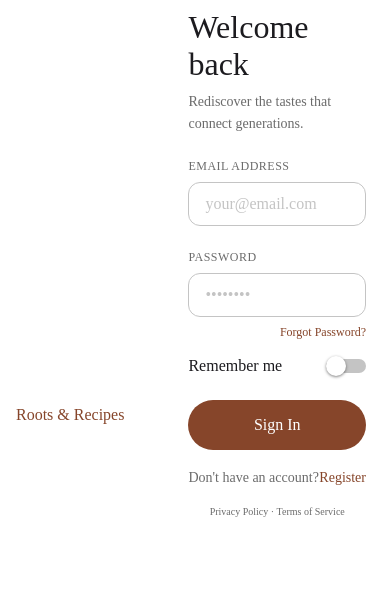
it: LoginScreen › login submission › shows a generic error message for unknown errors
The width and height of the screenshot is (383, 589).
In the field with placeholder "your@email.com": (277, 204) left=188, top=182, right=366, bottom=226, type "user@test.com"
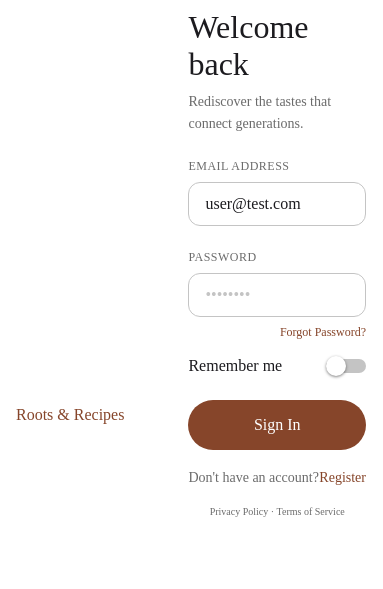
In the password field with placeholder "••••••••": (277, 295) left=188, top=273, right=366, bottom=317, type "anypass"
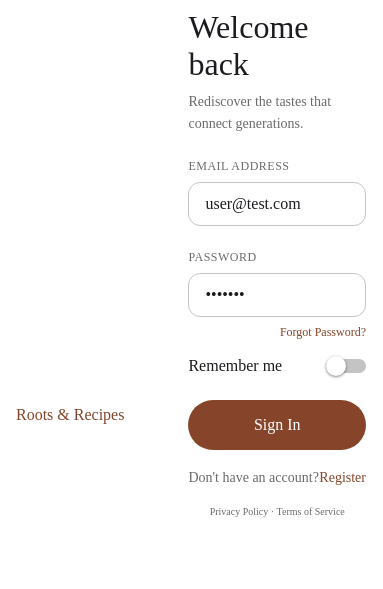
Click the text "Sign In": click(277, 425) left=254, top=416, right=301, bottom=434
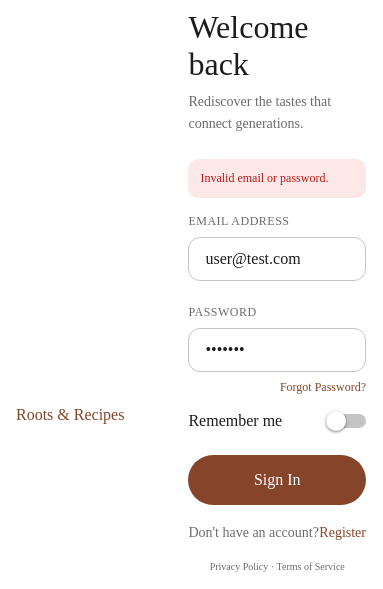
Now the text "Invalid email or password." is shown, box left=200, top=171, right=328, bottom=185
